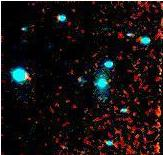star: (9, 62, 39, 92)
